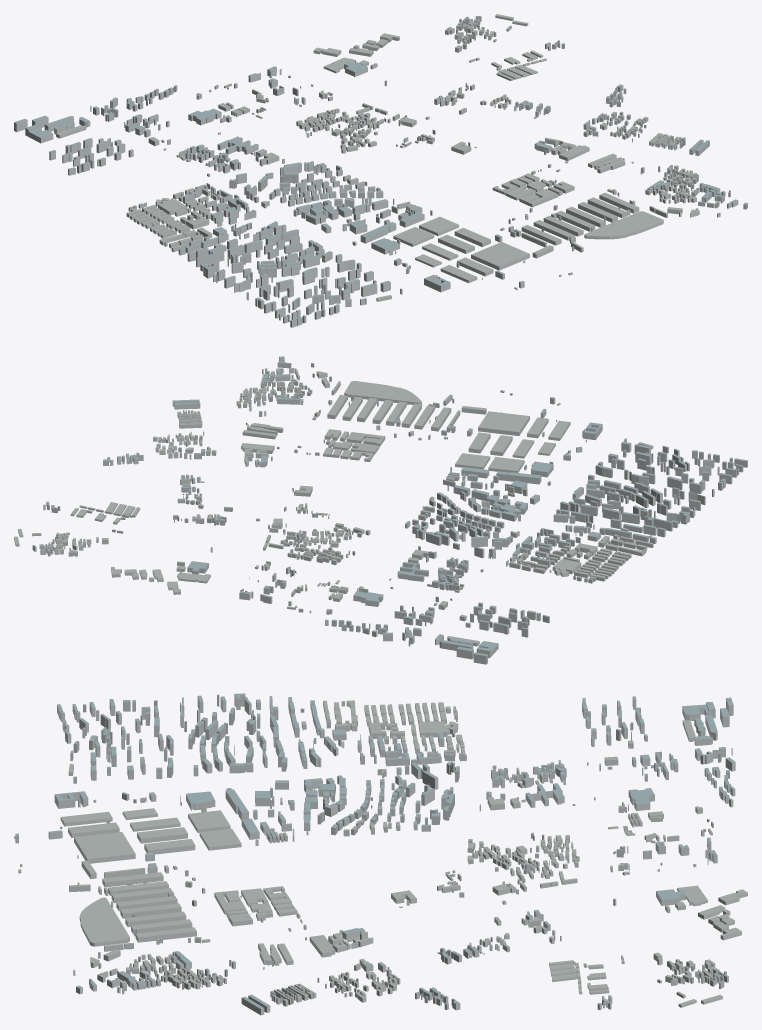
3 renders of one model, top to bottom at view 1: azimuth 30°, elevation 25°; view 2: azimuth 150°, elevation 25°; view 3: azimuth 270°, elevation 25°, orthographic. The views are drawn at different scales.
Parts seen in each view (by area): view 1: 上海全域建筑分块 · mapped building neighborhood; view 2: 上海全域建筑分块 · mapped building neighborhood; view 3: 上海全域建筑分块 · mapped building neighborhood.
Boxes of the visible parts, bbox=[...] form: 上海全域建筑分块 · mapped building neighborhood: bbox=[14, 14, 747, 327]; 上海全域建筑分块 · mapped building neighborhood: bbox=[14, 356, 747, 664]; 上海全域建筑分块 · mapped building neighborhood: bbox=[14, 693, 747, 1015].
Bounding box in the file's own units: 2142 × 38.17 × 2137.
